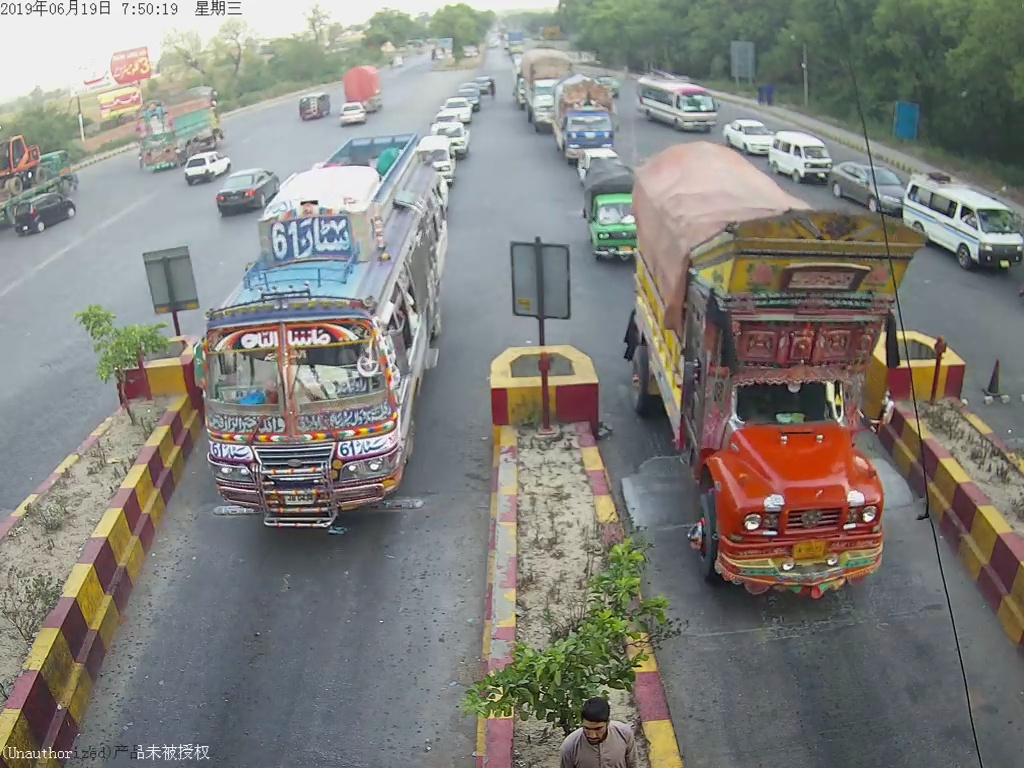Cat-1: (579, 166, 651, 266)
Cat-2: (548, 76, 616, 159)
Cat-3: (204, 136, 446, 526)
Cat-4: (636, 138, 897, 595)
